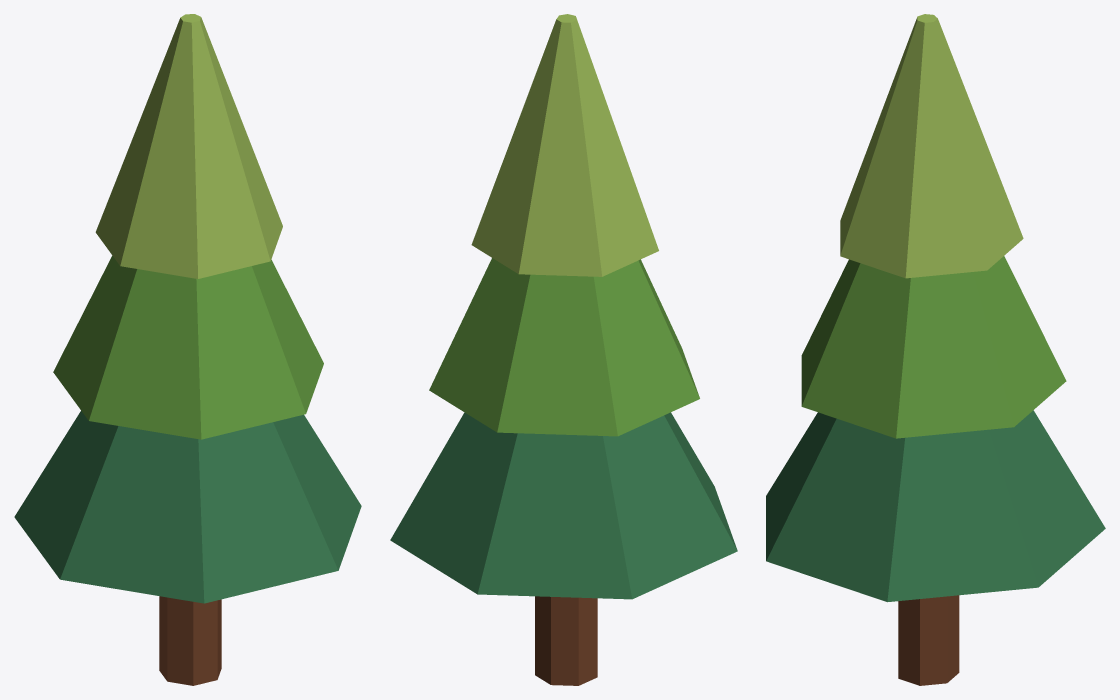
The model's file is cypress.glb.
The picture shows the model from 3 angles, left to right: view 1: azimuth 30°, elevation 25°; view 2: azimuth 150°, elevation 25°; view 3: azimuth 270°, elevation 25°; orthographic projection.
Parts seen in each view (by area): view 1: CypressMesh; view 2: CypressMesh; view 3: CypressMesh.
Part boxes in pixels (x1=…): CypressMesh: x1=14, y1=14, x2=361, y2=685; CypressMesh: x1=390, y1=14, x2=737, y2=685; CypressMesh: x1=766, y1=14, x2=1105, y2=685.
Size of the model in its own units: 0.9749 by 2.02 by 0.9505.
